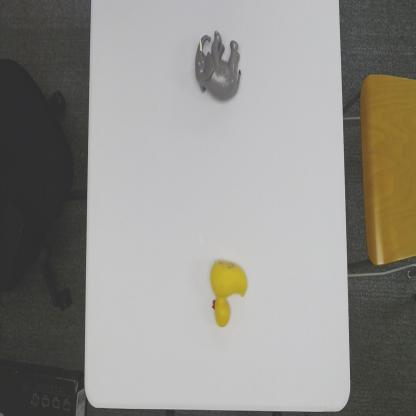Duck: (209, 256, 249, 330)
Elephant: (193, 27, 244, 106)
